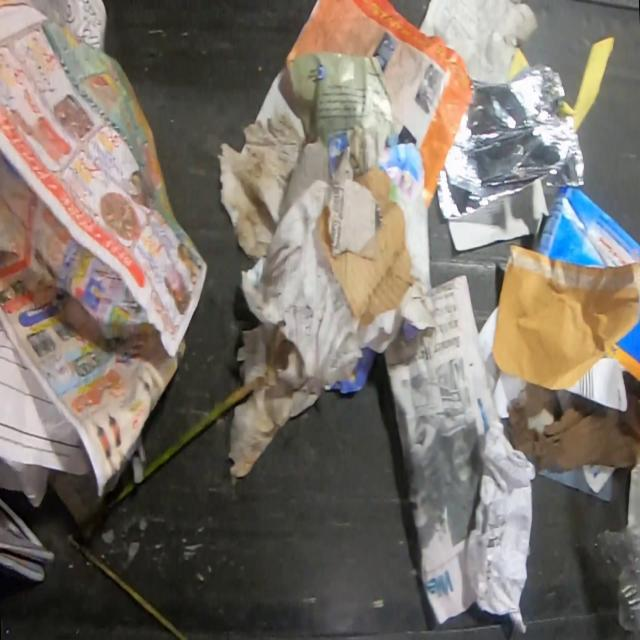cardboard: (316, 166, 416, 327)
soft_plastic: (434, 61, 584, 224), (592, 523, 640, 634)
